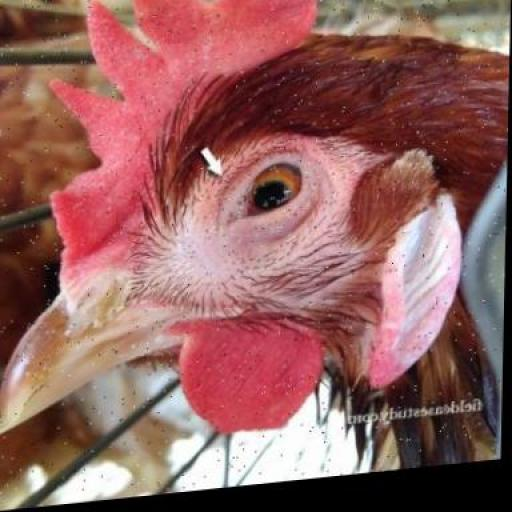disease: (212, 136, 341, 253)
